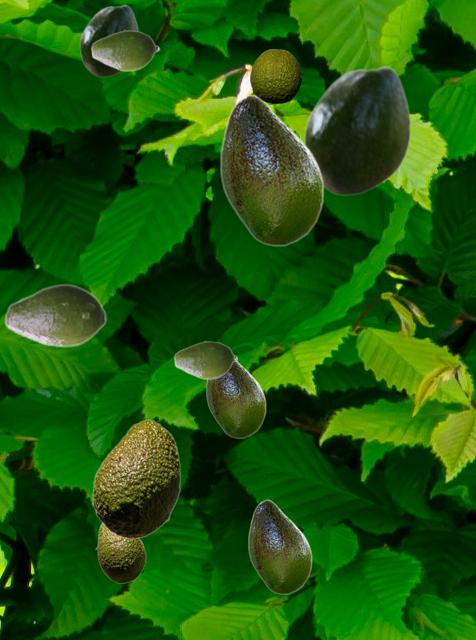avocado: (220, 94, 323, 245), (303, 65, 410, 195), (92, 419, 179, 538), (4, 283, 106, 347), (248, 499, 311, 593), (206, 361, 265, 437), (79, 4, 138, 76), (95, 523, 145, 582), (90, 29, 159, 71), (250, 49, 300, 102), (173, 340, 237, 379)
